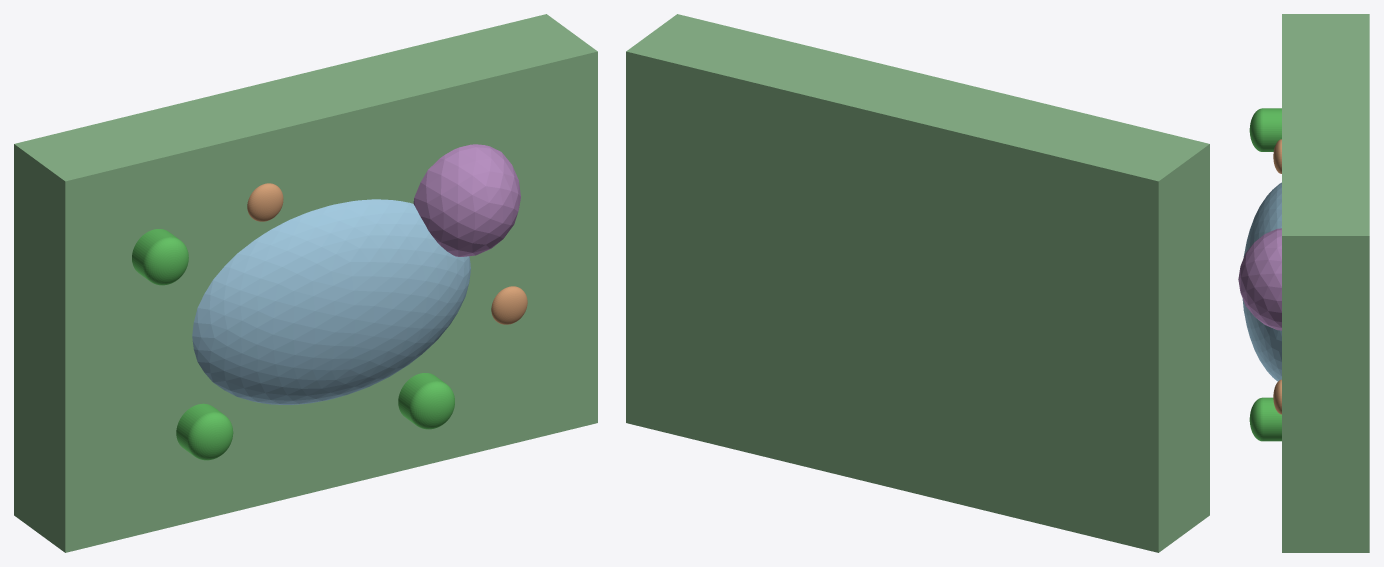
The model's file is bitki_hucresi_modeli.glb.
The picture shows the model from 3 angles, left to right: view 1: azimuth 30°, elevation 25°; view 2: azimuth 150°, elevation 25°; view 3: azimuth 270°, elevation 25°; orthographic projection. The views are drawn at different scales.
Visible parts, largest first — view 1: world; view 2: world; view 3: world.
Part boxes in pixels (x1,y1,x2,y2): world: [14, 14, 597, 552]; world: [626, 14, 1209, 552]; world: [1238, 14, 1369, 552].
Size of the model in its own units: 12 by 8 by 3.
